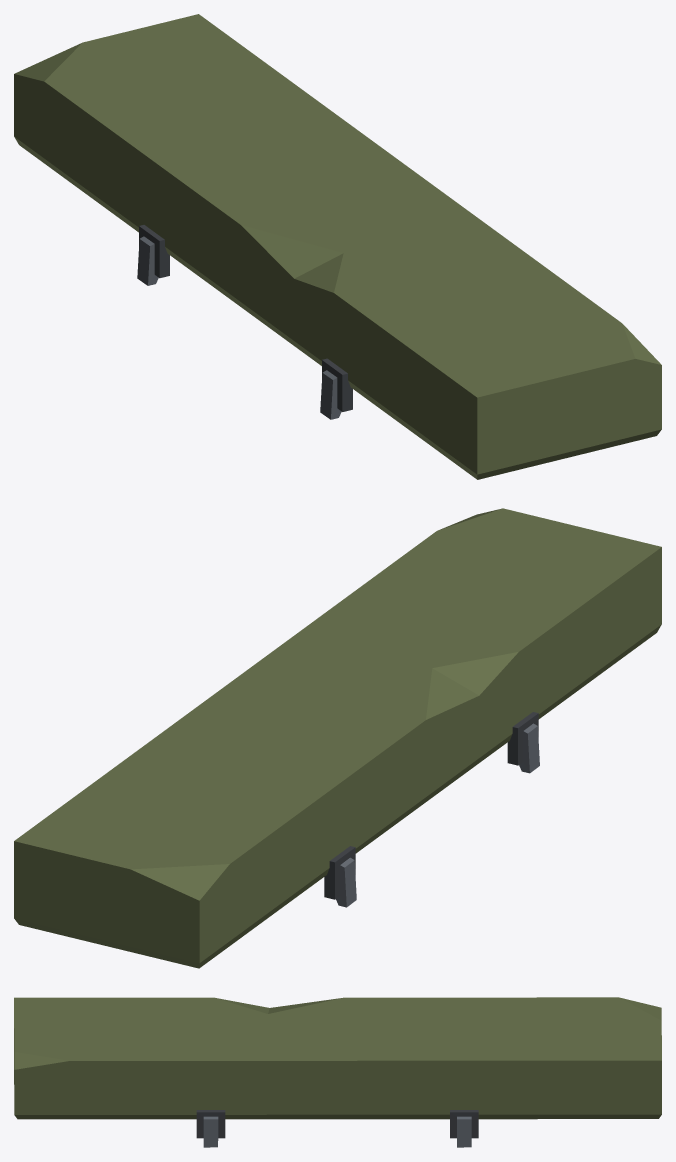
The model's file is SM_Prop_Missle_Crate_02_Lid.glb.
3 views of the same model, one above another, from view 1: azimuth 30°, elevation 25°; view 2: azimuth 150°, elevation 25°; view 3: azimuth 270°, elevation 25° (orthographic). The views are drawn at different scales.
Parts seen in each view (by area): view 1: SM_Prop_Missle_Crate_02_Lid; view 2: SM_Prop_Missle_Crate_02_Lid; view 3: SM_Prop_Missle_Crate_02_Lid.
Boxes of the visible parts, x1,y1,x2,y2 form: SM_Prop_Missle_Crate_02_Lid: (14,14,661,479); SM_Prop_Missle_Crate_02_Lid: (14,508,661,968); SM_Prop_Missle_Crate_02_Lid: (14,997,661,1147).
Bounding box in the file's own units: 0.3961 × 0.2112 × 1.51.
Materials: 1 (1 with a texture image).
